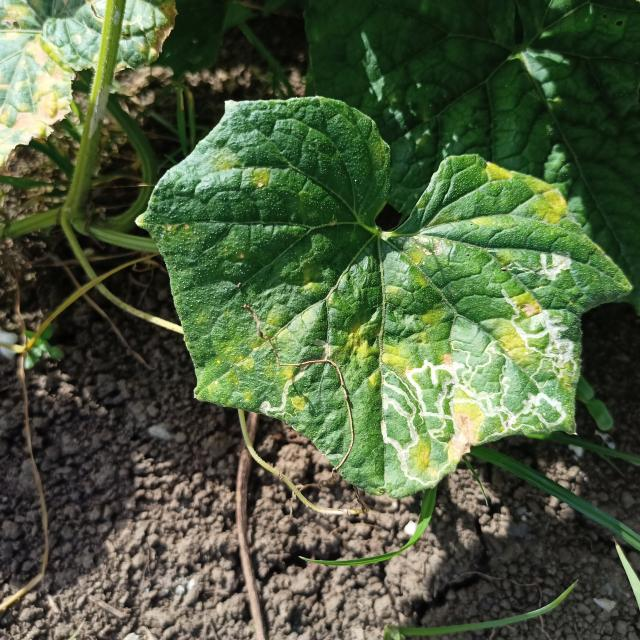disease_cucumber: (347, 241, 585, 480), (224, 300, 347, 420), (466, 160, 576, 240), (209, 151, 273, 197)
